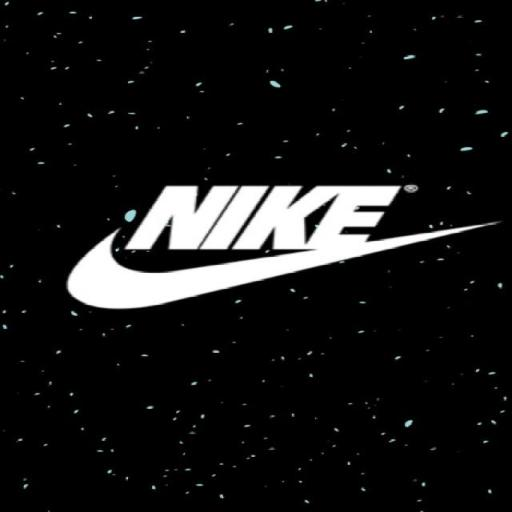Nike: (66, 234, 434, 309), (124, 182, 410, 252)
